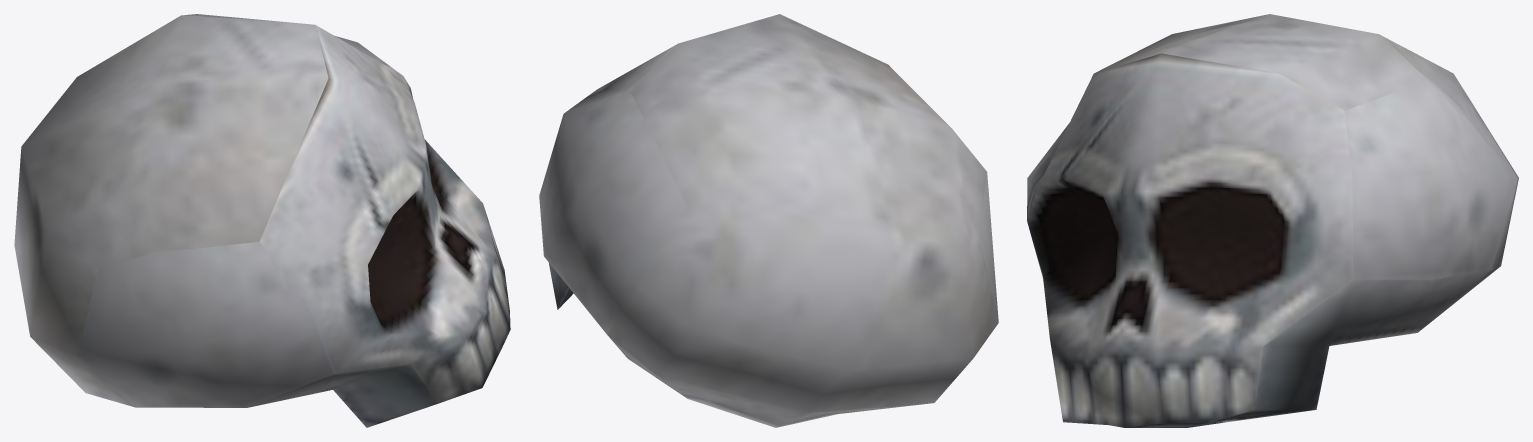
The model's file is skull.FBX.
The picture shows the model from 3 angles, left to right: view 1: azimuth 30°, elevation 25°; view 2: azimuth 150°, elevation 25°; view 3: azimuth 270°, elevation 25°; orthographic projection. The views are drawn at different scales.
Parts seen in each view (by area): view 1: cabeza002; view 2: cabeza002; view 3: cabeza002.
Boxes of the visible parts, x1,y1,x2,y2 form: cabeza002: (14, 14, 510, 427); cabeza002: (539, 14, 998, 427); cabeza002: (1027, 14, 1518, 427).
Bounding box in the file's own units: 336 × 244 × 309.
